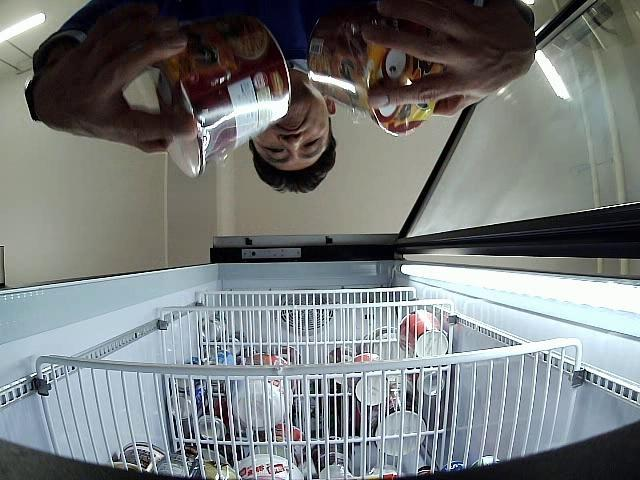05_nuguri_L: (157, 15, 290, 178), (308, 8, 443, 136)
